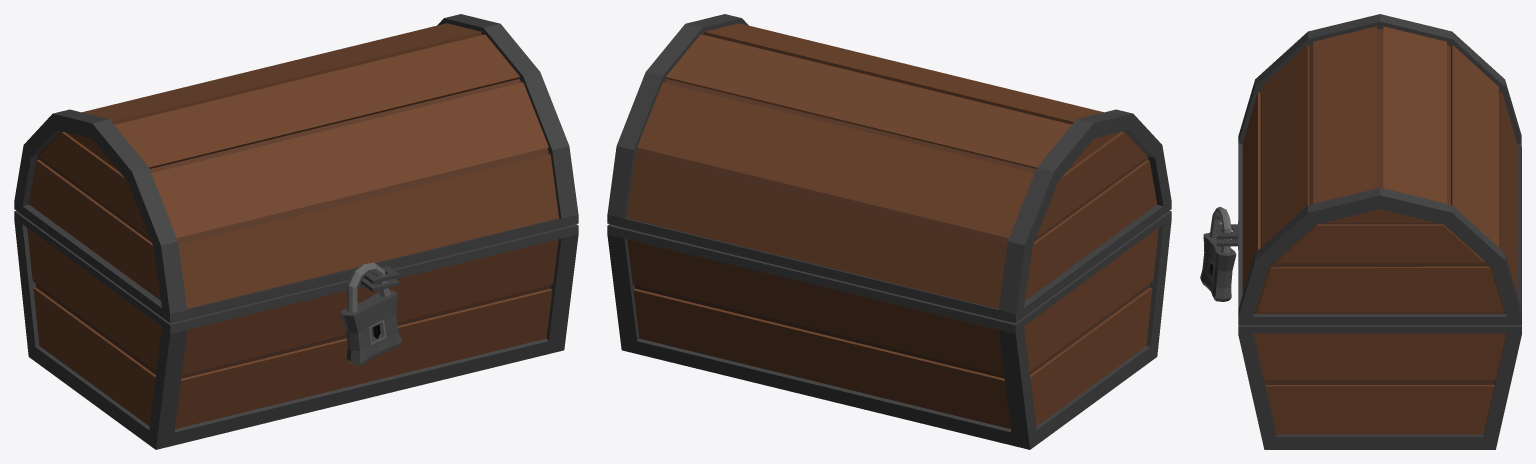
Rendered from ChestV1.fbx.
3 views of the same model, side by side, from view 1: azimuth 30°, elevation 25°; view 2: azimuth 150°, elevation 25°; view 3: azimuth 270°, elevation 25° (orthographic). The views are drawn at different scales.
Visible parts, largest first — view 1: ChestV1_Top, ChestV1, ChestV1_Lock; view 2: ChestV1_Top, ChestV1; view 3: ChestV1_Top, ChestV1, ChestV1_Lock.
Part boxes in pixels (x1=…): ChestV1_Top: x1=14, y1=14, x2=578, y2=322; ChestV1: x1=14, y1=210, x2=578, y2=449; ChestV1_Lock: x1=340, y1=262, x2=402, y2=365; ChestV1_Top: x1=607, y1=14, x2=1171, y2=322; ChestV1: x1=607, y1=210, x2=1171, y2=449; ChestV1_Top: x1=1216, y1=14, x2=1521, y2=325; ChestV1: x1=1216, y1=147, x2=1521, y2=449; ChestV1_Lock: x1=1200, y1=207, x2=1236, y2=301.
Bounding box in the file's own units: 74.32 × 48.69 × 55.74.
